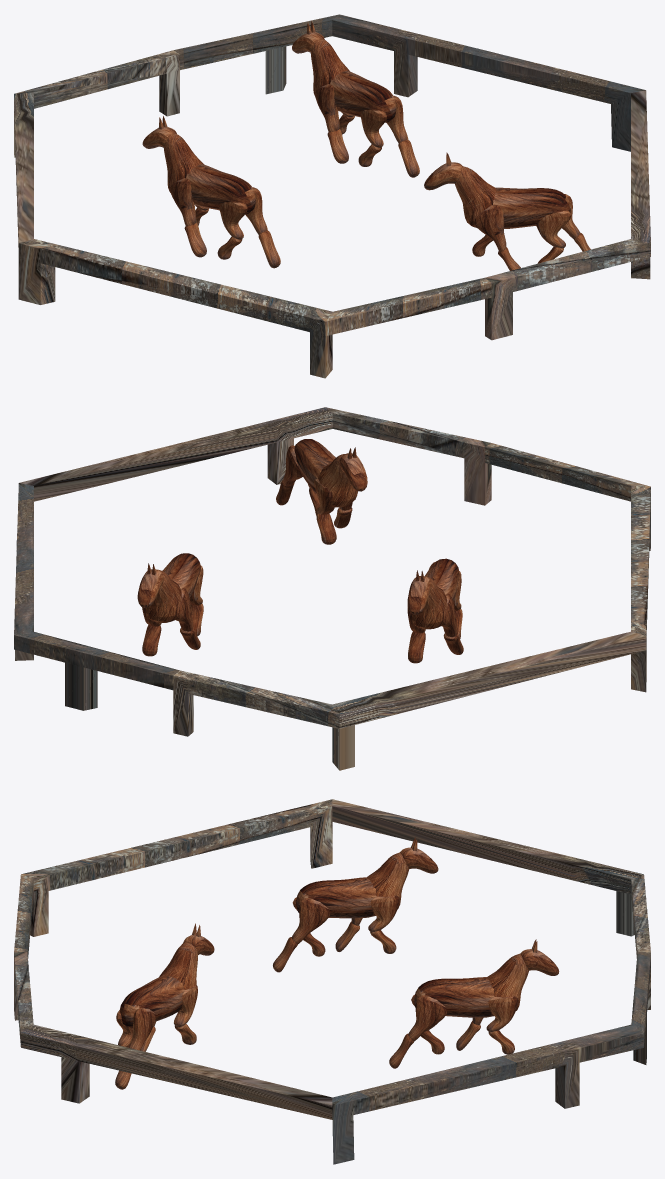
The model's file is horse_resource.glb.
The picture shows the model from 3 angles, top to bottom: view 1: azimuth 30°, elevation 25°; view 2: azimuth 150°, elevation 25°; view 3: azimuth 270°, elevation 25°; orthographic projection.
Parts seen in each view (by area): view 1: Improvement, Resource; view 2: Improvement, Resource; view 3: Improvement, Resource.
Part boxes in pixels (x1,y1,x2,y2): Improvement: [14, 14, 650, 378]; Resource: [142, 20, 590, 270]; Improvement: [14, 407, 650, 770]; Resource: [137, 439, 463, 663]; Improvement: [14, 799, 650, 1164]; Resource: [115, 837, 559, 1089].
Bounding box in the file's own units: 6.14 × 1.05 × 5.38.
4 materials, 4 textured.
